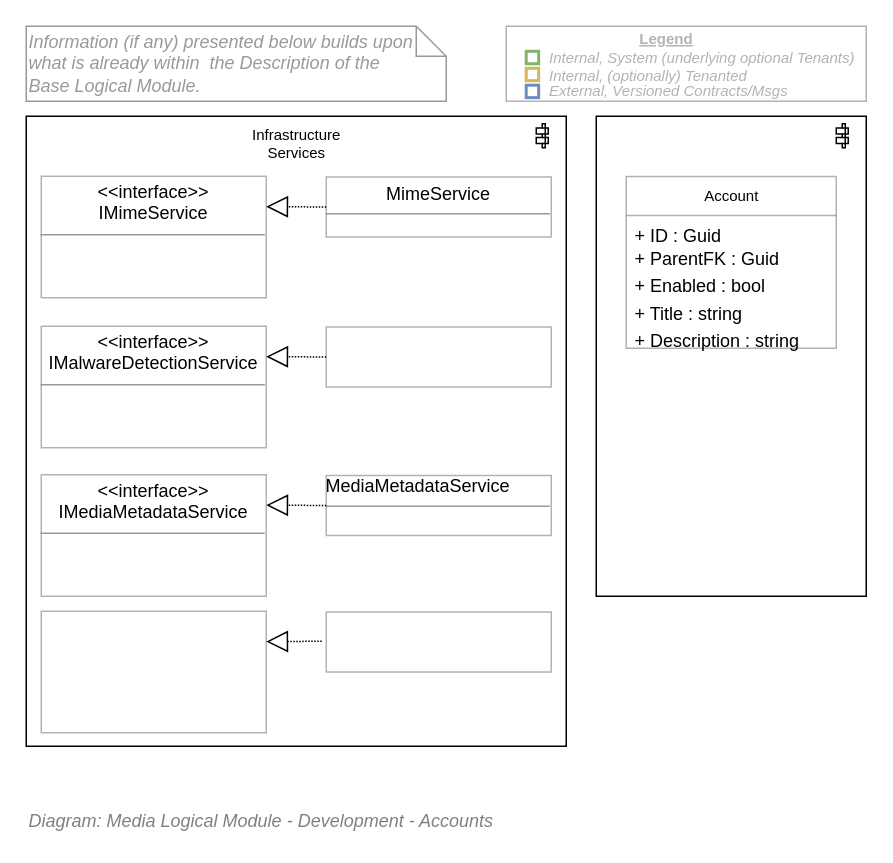
Some shapes in this 893 by 863 pixel diagram are drawn without their labels. The shapes that lost their labels are listed below. From the top down, each one's box as (x1, y1, x2, y2) in pixels, then its label:
(325, 326, 551, 387): MalwareDetection Service
(595, 115, 866, 596): Shared Models
(325, 610, 551, 672): Media Service
(40, 610, 266, 733): <<interface>> IMediaService
